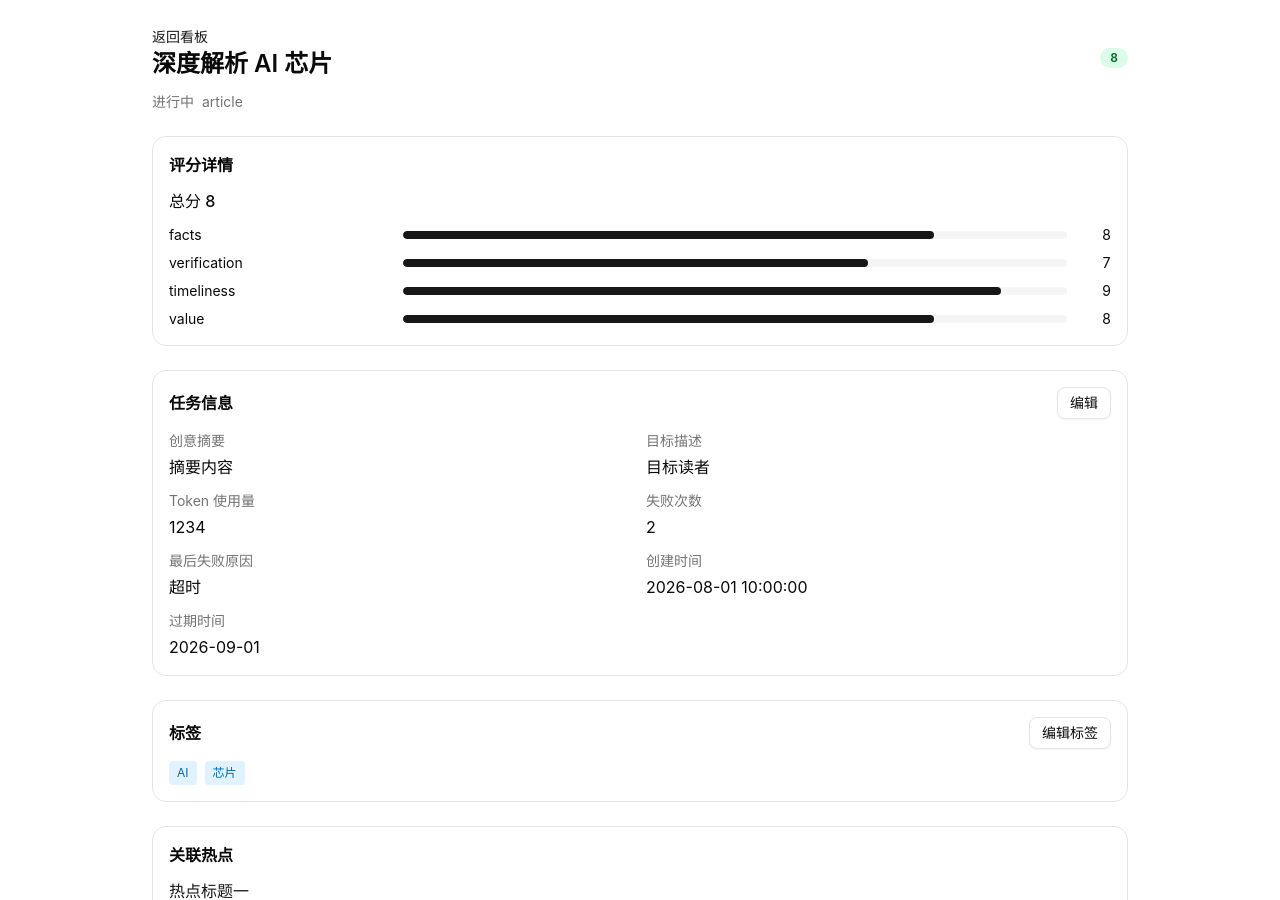
TaskDetailPage 信息编辑 › 标题为空时保存显示校验错误且不提交
Expected: the heading "深度解析 AI 芯片" is shown, top-left (152, 48), bottom-right (332, 80)
Click the button "编辑" at (1084, 403), box top-left (1057, 387), bottom-right (1111, 419)
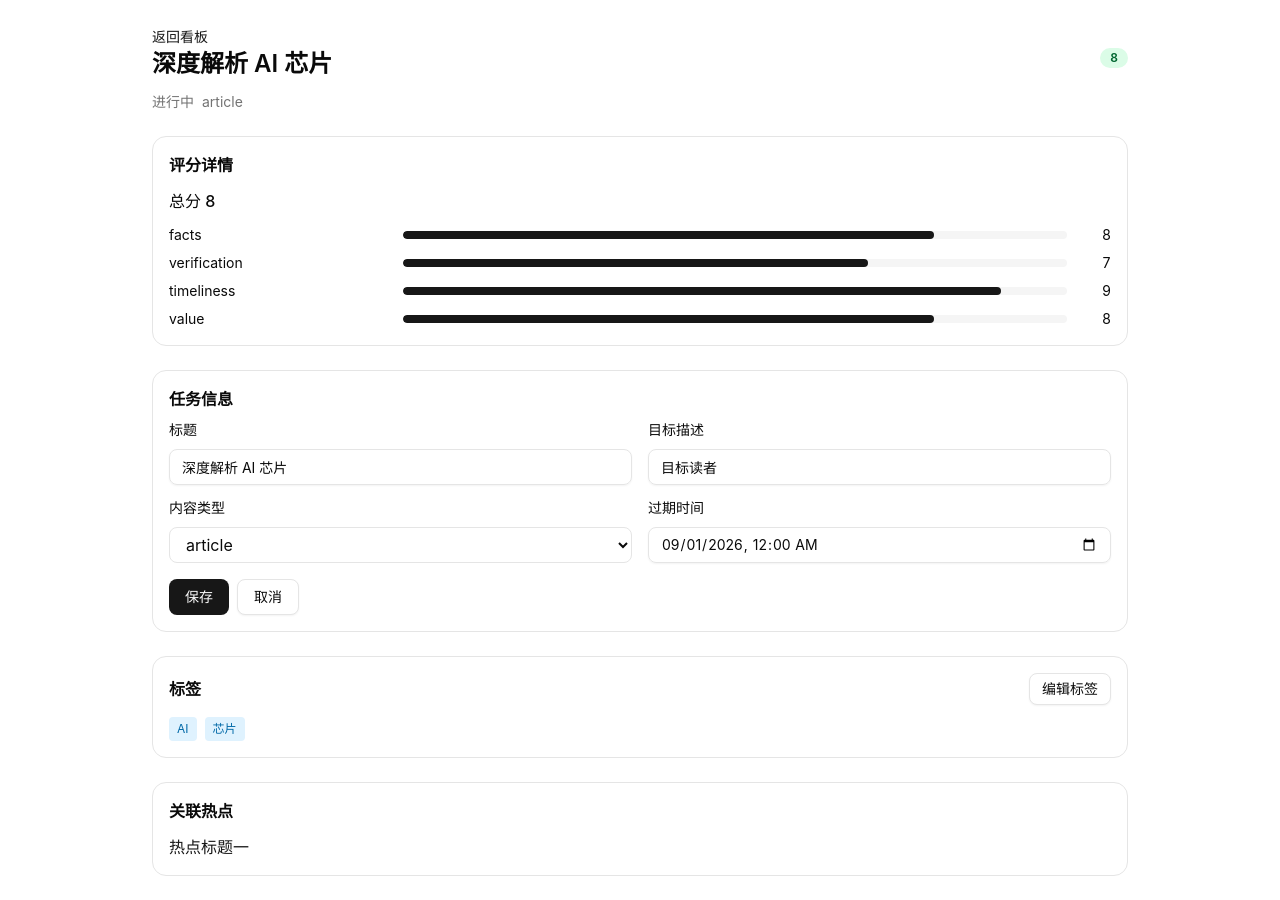
Clear the field labelled "标题" at (400, 467), box top-left (169, 449), bottom-right (632, 485)
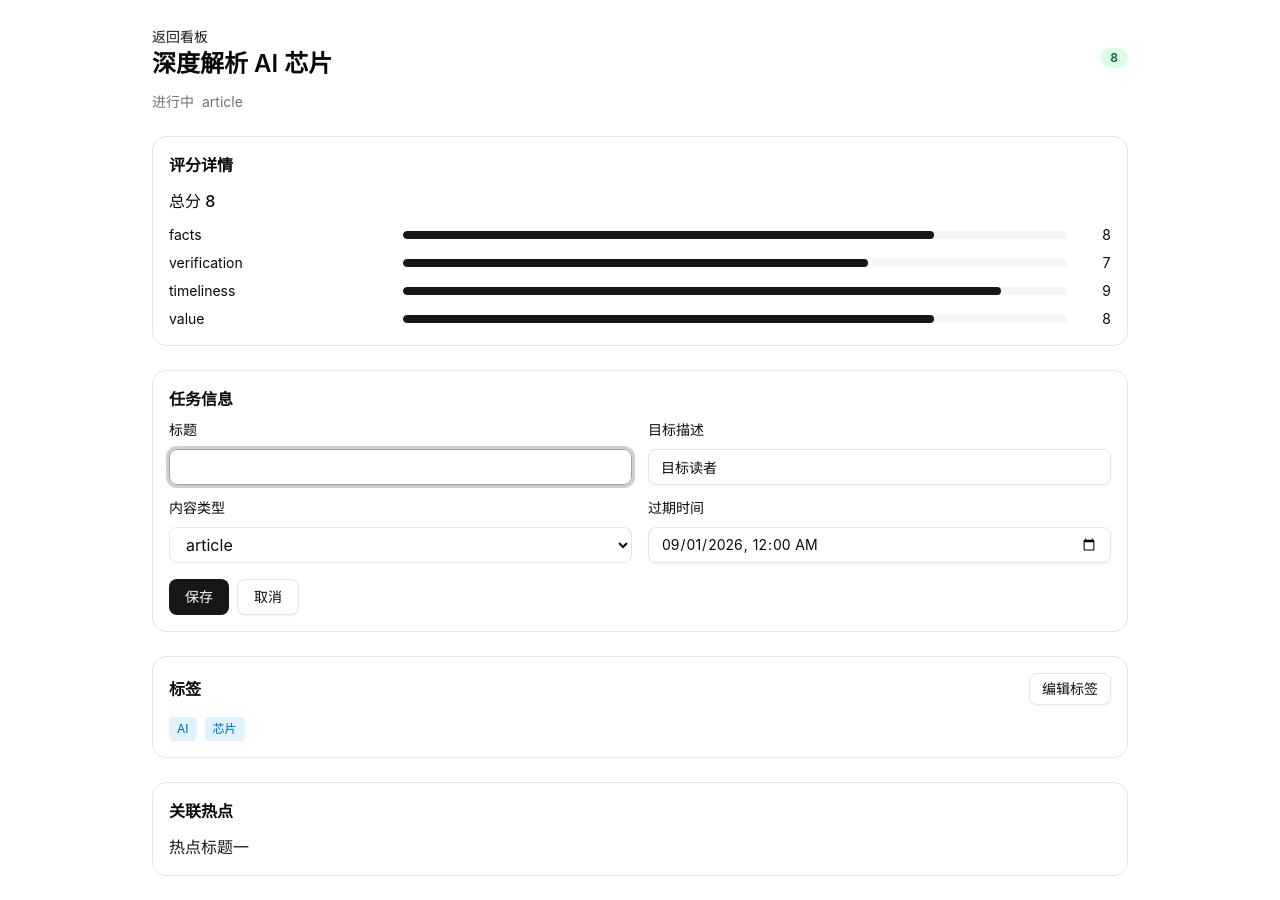
Click the button "保存" at (199, 597), box top-left (169, 579), bottom-right (229, 615)
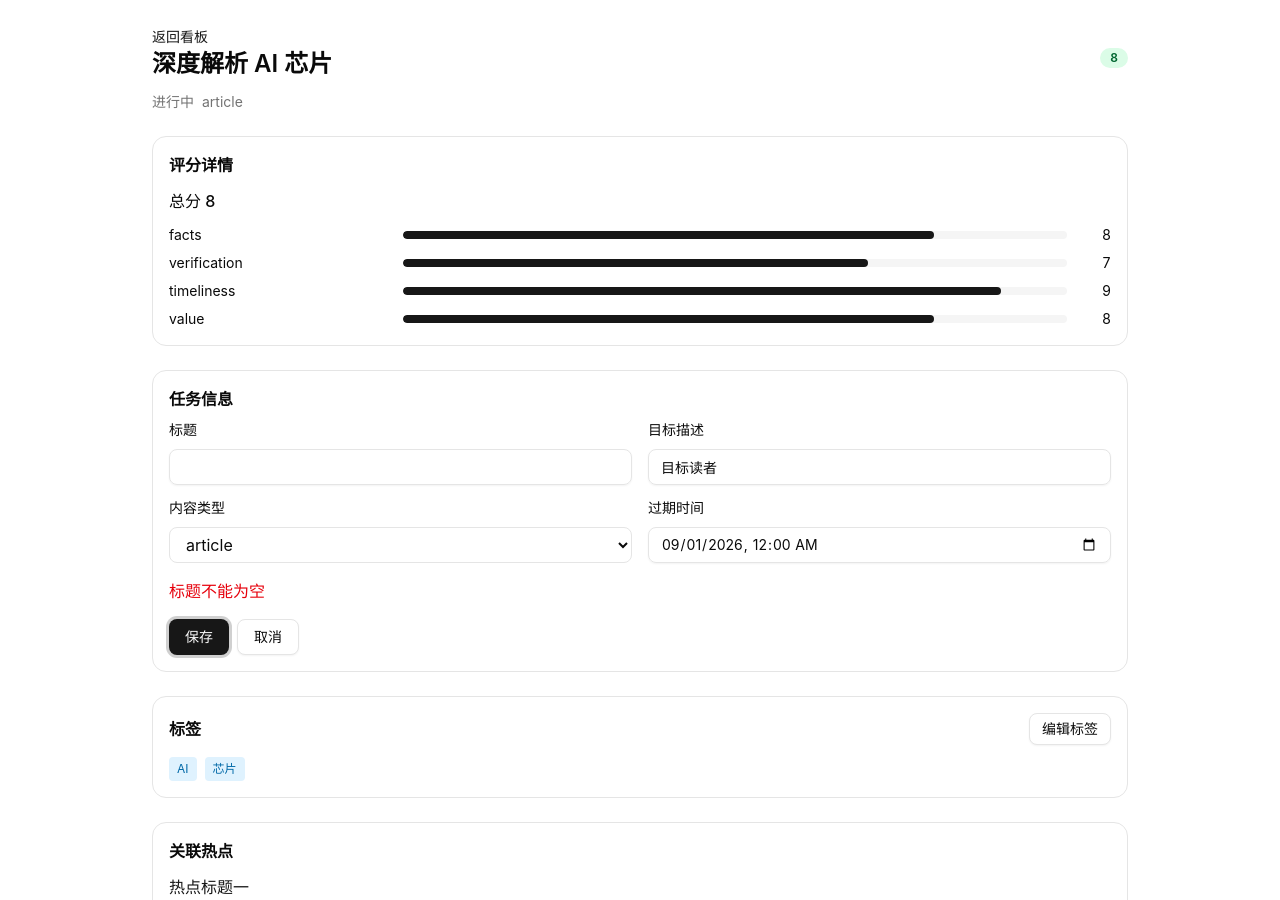
Expected: the text "标题不能为空" is shown, top-left (169, 581), bottom-right (265, 601)
